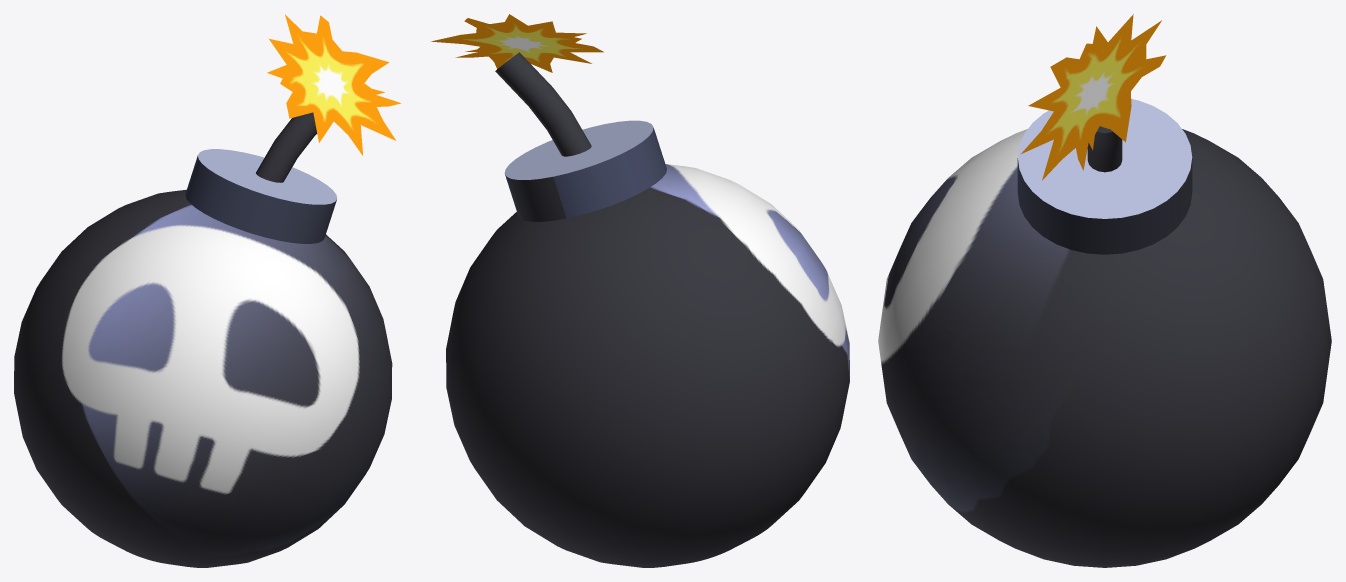
Rendered from zhadan.FBX.
The picture shows the model from 3 angles, left to right: view 1: azimuth 30°, elevation 25°; view 2: azimuth 150°, elevation 25°; view 3: azimuth 270°, elevation 25°; orthographic projection. The views are drawn at different scales.
Visible parts, largest first — view 1: zhandan; view 2: zhandan; view 3: zhandan.
Part boxes in pixels (bbox=[...]): zhandan: bbox=[14, 14, 401, 567]; zhandan: bbox=[431, 14, 849, 567]; zhandan: bbox=[878, 14, 1331, 567].
Size of the model in its own units: 11.19 by 14.64 by 10.24.
1 material, 1 textured.
